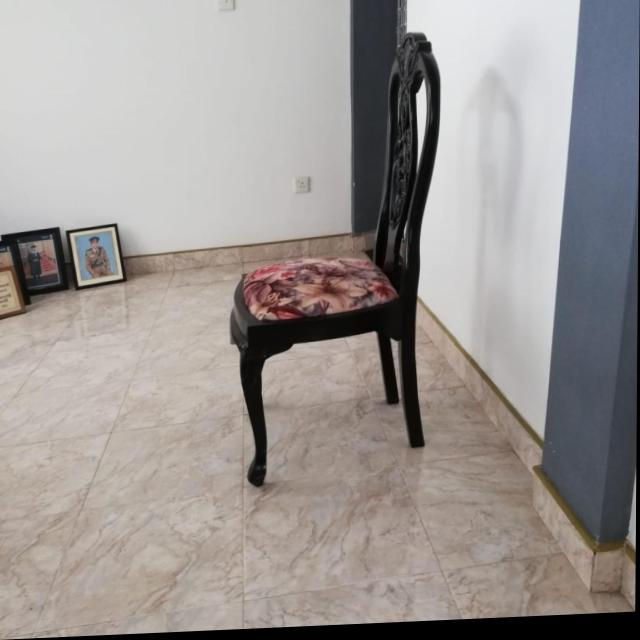Chair: (230, 33, 443, 493)
